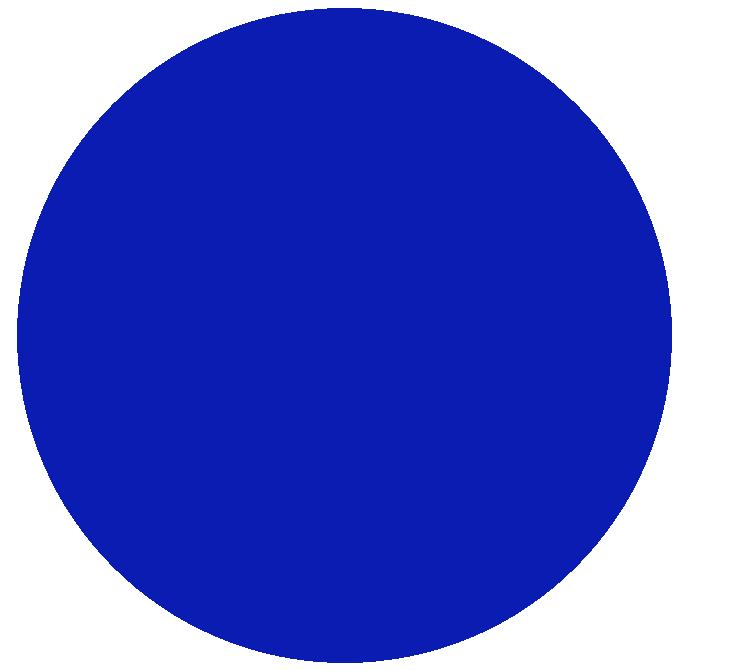blue_circle: (7, 0, 689, 671)
